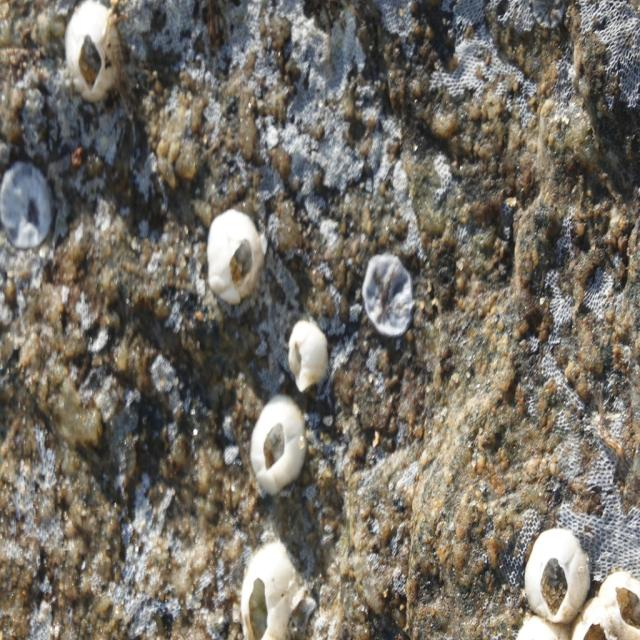barnacles: (49, 0, 132, 120), (232, 545, 316, 640), (236, 400, 319, 496), (200, 204, 268, 309), (522, 527, 585, 623)
